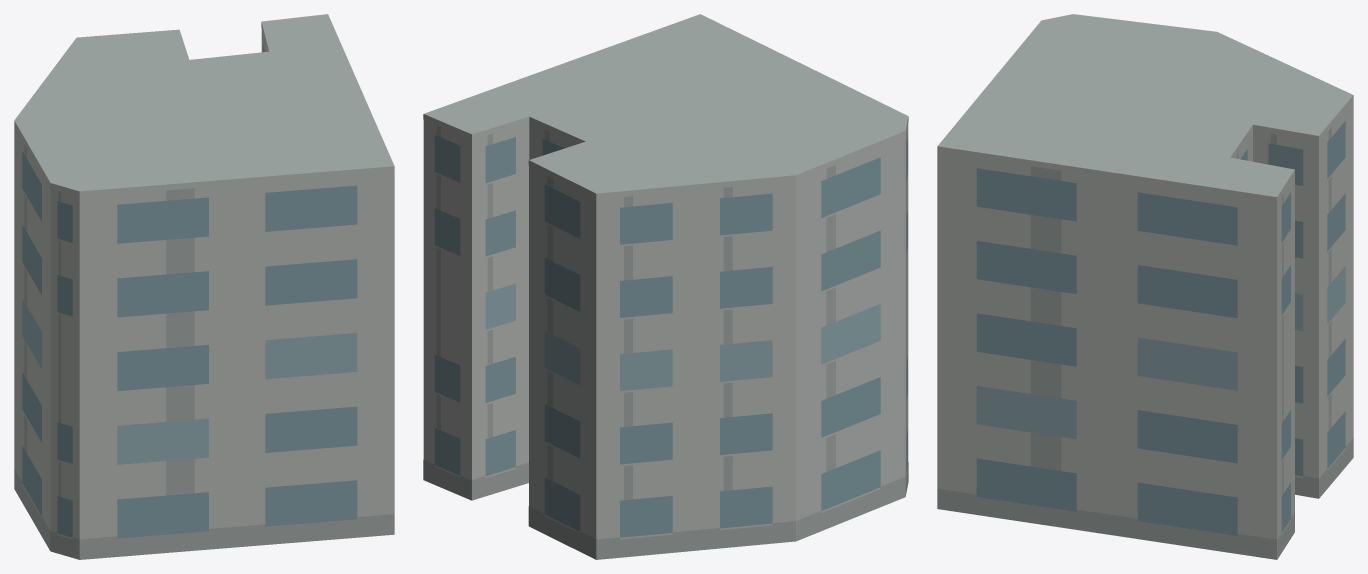
Rendered from survey-upis-32892724.glb.
3 views of the same model, side by side, from view 1: azimuth 30°, elevation 25°; view 2: azimuth 150°, elevation 25°; view 3: azimuth 270°, elevation 25° (orthographic).
Parts seen in each view (by area): view 1: survey-upis-32892724.tmp; view 2: survey-upis-32892724.tmp; view 3: survey-upis-32892724.tmp.
Boxes of the visible parts, box(x1,y1,x2,y2) form: survey-upis-32892724.tmp: box(14, 14, 394, 559); survey-upis-32892724.tmp: box(423, 14, 908, 559); survey-upis-32892724.tmp: box(937, 14, 1353, 559).
Size of the model in its own units: 16.25 by 15 by 15.61.
